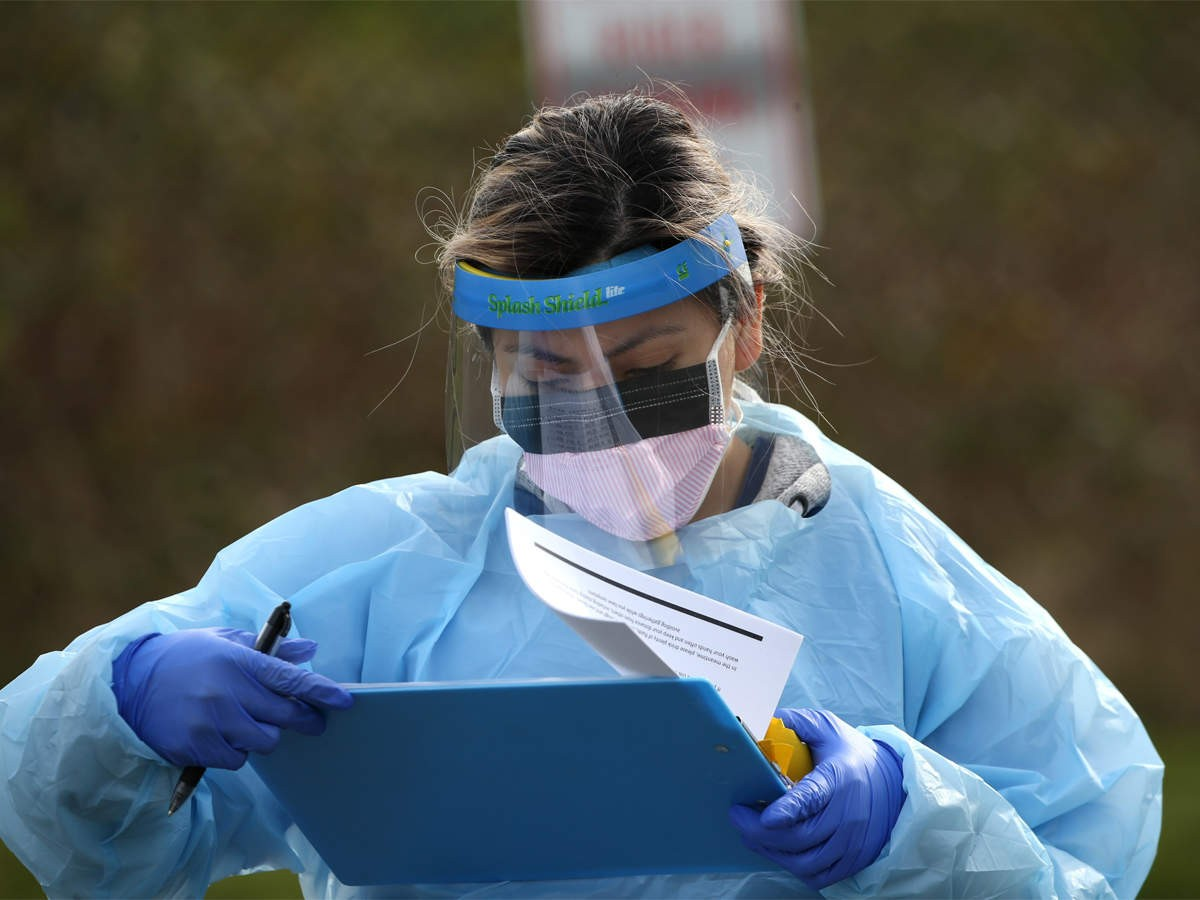Face_Shield: (441, 218, 771, 548)
Gloves: (108, 621, 354, 781), (732, 695, 911, 894)
with_mask: (490, 333, 737, 542)
